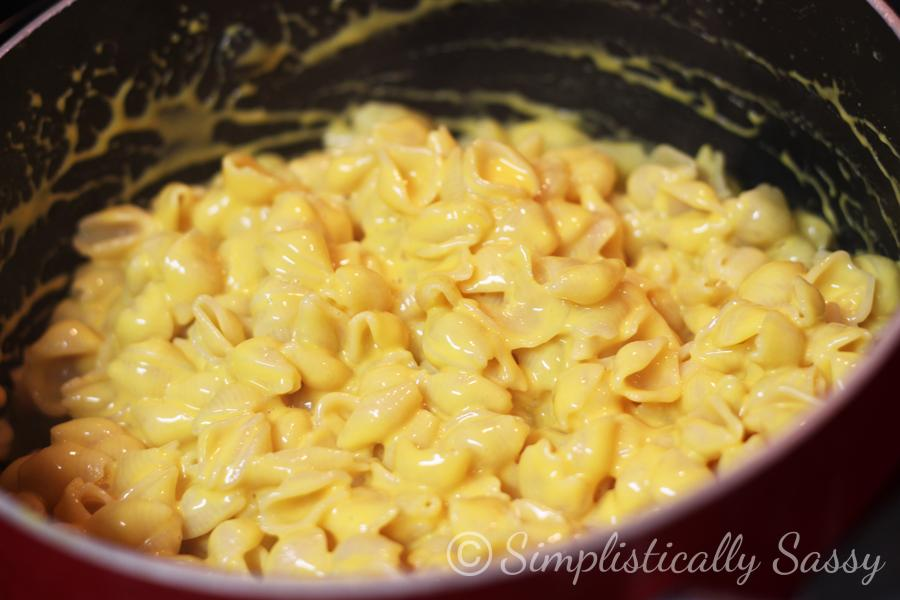macncheese: (45, 108, 880, 591)
